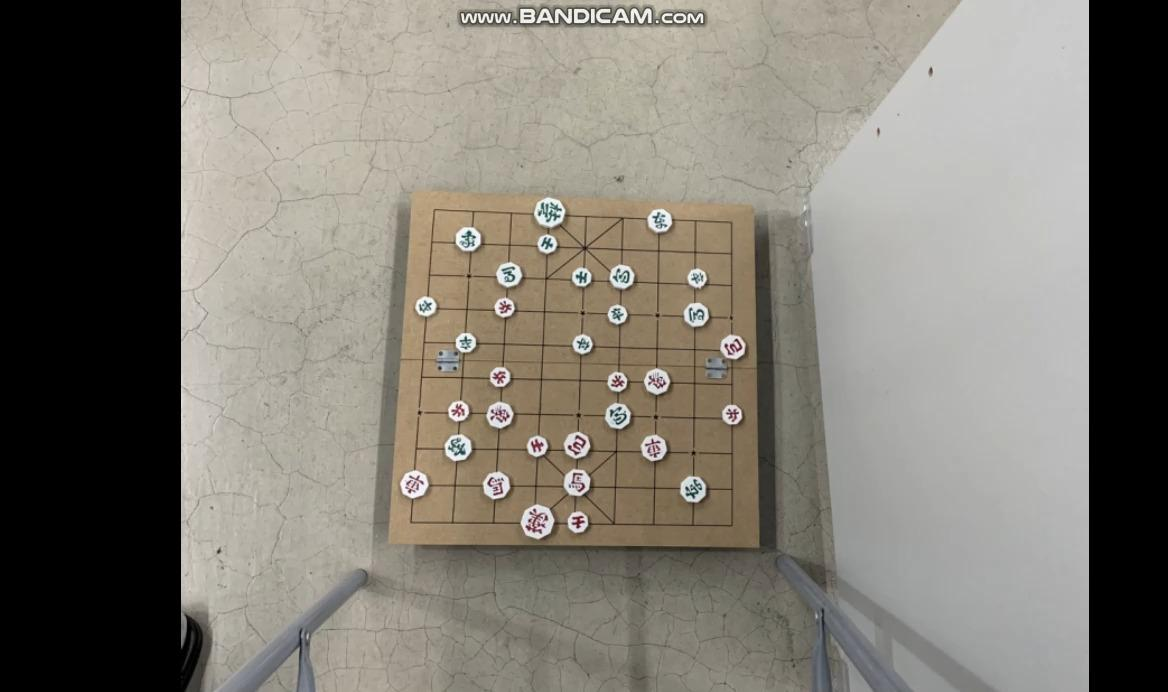cha_green: (679, 477, 709, 502), (646, 208, 673, 232)
cha_red: (399, 472, 430, 498), (640, 437, 669, 462)
jol_green: (415, 298, 439, 317), (572, 336, 595, 355), (454, 334, 478, 352), (687, 269, 709, 288), (606, 306, 629, 324)
jol_red: (447, 401, 471, 421), (607, 372, 629, 392), (493, 299, 516, 318), (721, 406, 744, 425), (490, 367, 510, 387)
ma_green: (495, 264, 524, 287), (683, 304, 711, 327)
ma_red: (563, 470, 592, 496), (481, 473, 511, 498)
po_green: (604, 404, 634, 428), (609, 266, 636, 289)
po_red: (563, 433, 591, 458), (720, 336, 747, 359)
sa_green: (571, 268, 593, 287), (536, 235, 559, 252)
sa_red: (566, 511, 590, 532), (526, 436, 550, 456)
sang_green: (442, 435, 472, 461), (454, 227, 482, 250)
sang_red: (643, 368, 672, 394), (485, 402, 514, 428)
wang_green: (533, 198, 567, 227)
wang_red: (520, 506, 557, 538)
